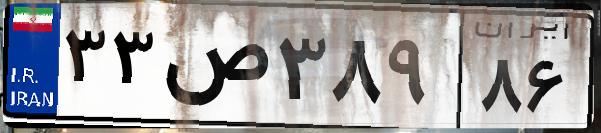3: (270, 28, 330, 110), (57, 26, 110, 100), (110, 28, 158, 98)
6: (525, 38, 570, 115)
8: (330, 28, 385, 110), (475, 38, 525, 113)
9: (385, 28, 445, 110)
ص: (158, 20, 270, 120)
